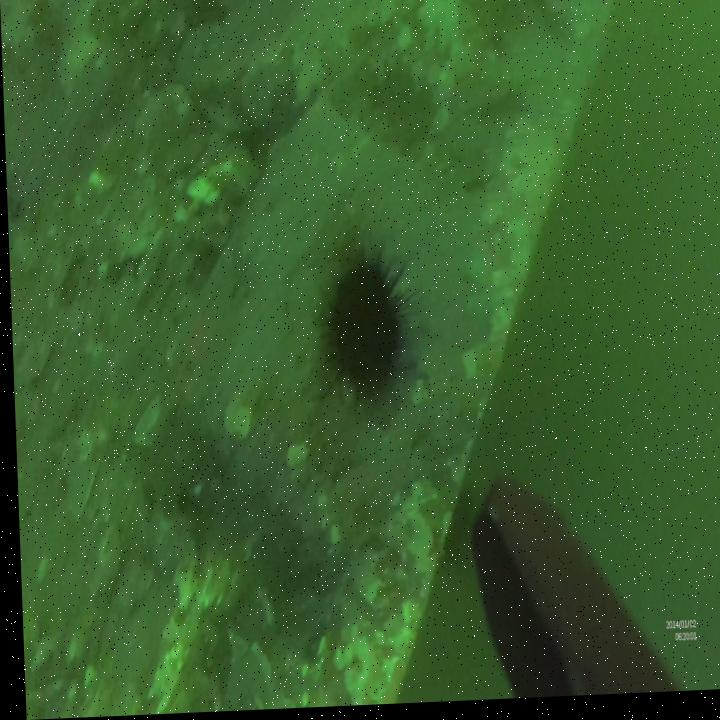echinus: (307, 234, 419, 423)
